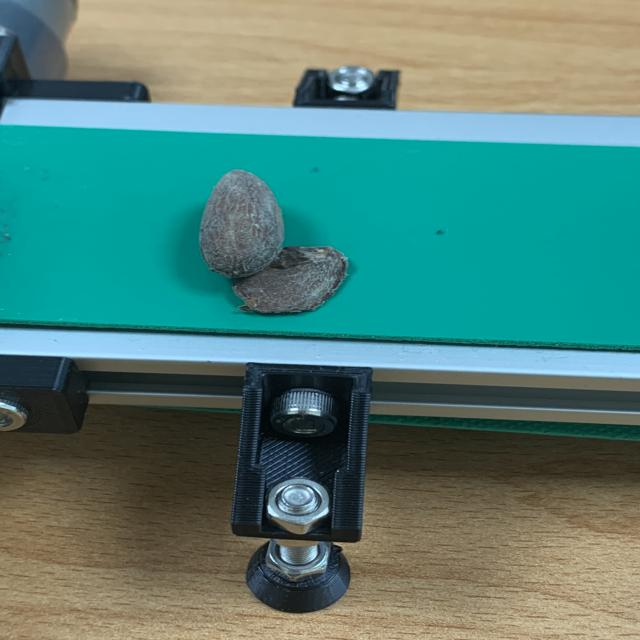Agglomerated_cocoabeans: (130, 157, 430, 355)
